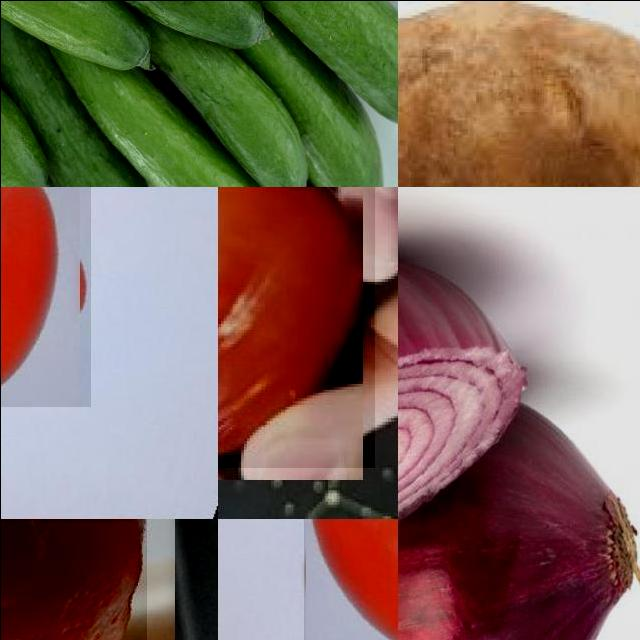cucumber: (48, 43, 273, 187), (1, 1, 159, 187), (239, 19, 384, 187), (228, 1, 398, 132)
onion: (398, 396, 640, 640), (398, 241, 532, 583)
potato: (398, 1, 640, 187)
tomato: (1, 187, 91, 408), (305, 519, 398, 640)
